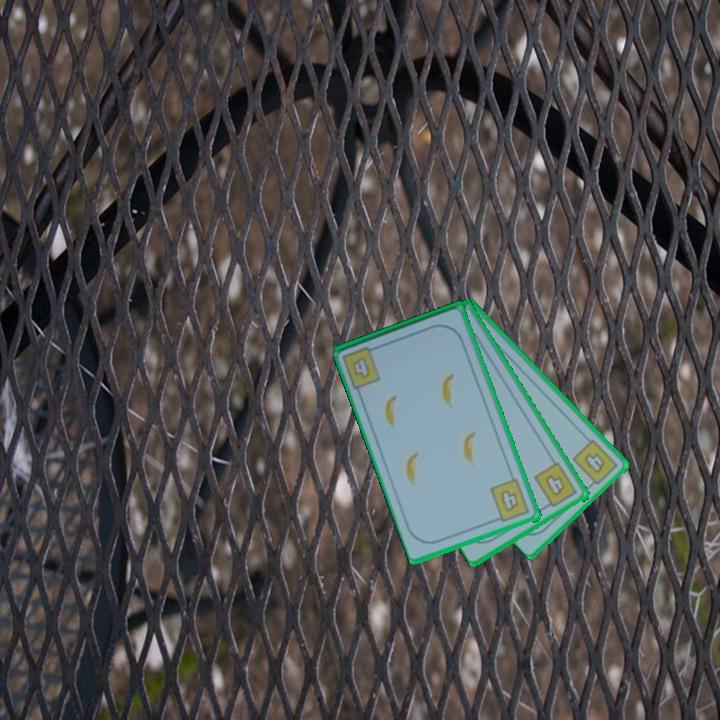4b: (569, 435, 621, 491), (531, 459, 581, 512), (487, 476, 533, 525), (339, 342, 384, 392)
